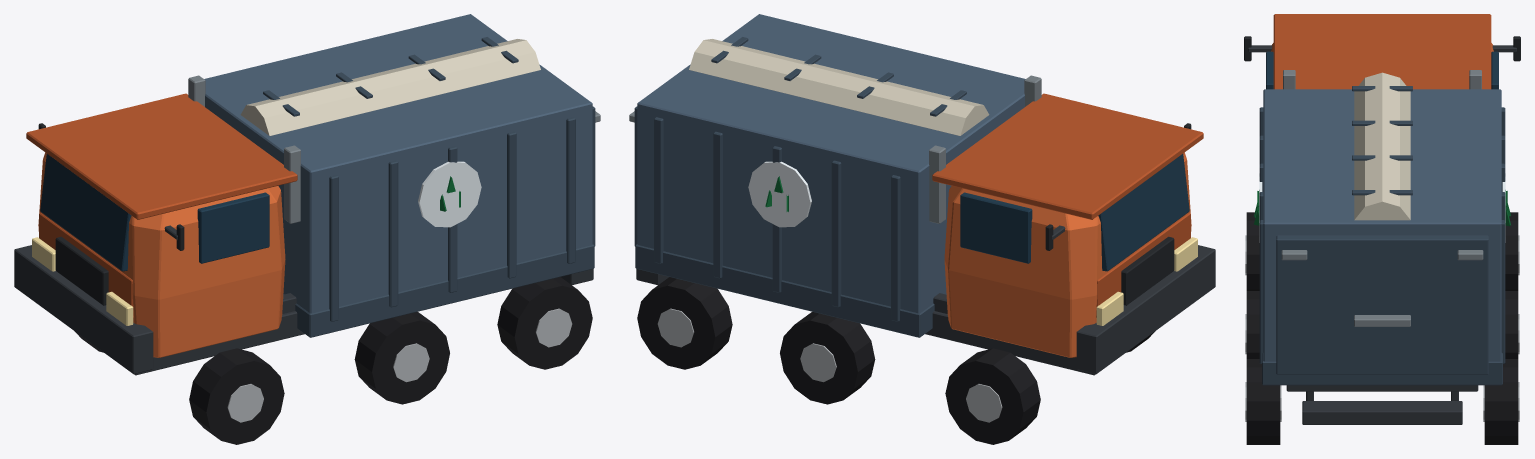
File: camion.glb
3 renders of one model, left to right at view 1: azimuth 30°, elevation 25°; view 2: azimuth 150°, elevation 25°; view 3: azimuth 270°, elevation 25°, orthographic. The views are drawn at different scales.
Visible parts, largest first — view 1: caja, techo_cabina, cabina, lona, zocalo, paragolpes, rueda, rueda.004, rueda.002, parabrisas, ventanilla, cartel (+13 smaller); view 2: caja, techo_cabina, cabina, lona, zocalo, paragolpes, rueda.001, rueda.005, rueda.003, parabrisas, ventanilla.001, cartel.001 (+13 smaller); view 3: caja, compuerta, techo_cabina, lona, escalon, zocalo, rueda.004, rueda.005, chasis, rueda.001, rueda, rueda.002 (+8 smaller).
Boxes of the visible parts, x1,y1,x2,y2 form: caja: (204,14,592,313); techo_cabina: (26,93,297,219); cabina: (38,152,285,357); lona: (240,39,540,135); zocalo: (283,244,594,337); paragolpes: (14,245,153,374); rueda: (189,348,284,444); rueda.004: (497,277,592,369); rueda.002: (354,312,449,404); parabrisas: (40,154,131,271); ventanilla: (197,192,269,263); cartel: (418,161,481,227); caja: (637,14,1025,313); techo_cabina: (932,93,1203,219); cabina: (944,152,1191,357); lona: (689,39,989,135); zocalo: (635,244,946,337); paragolpes: (1076,245,1215,374); rueda.001: (945,348,1040,444); rueda.005: (637,277,732,369); rueda.003: (780,312,875,404); parabrisas: (1098,154,1189,271); ventanilla.001: (960,192,1032,263); cartel.001: (748,161,811,227); caja: (1263,89,1501,361); compuerta: (1276,235,1488,374); techo_cabina: (1273,14,1491,89); lona: (1354,72,1410,220); escalon: (1302,401,1462,424); zocalo: (1262,353,1502,385); rueda.004: (1246,359,1280,444); rueda.005: (1484,359,1518,444); chasis: (1286,385,1478,391); rueda.001: (1505,212,1518,290); rueda: (1246,212,1259,290); rueda.002: (1246,291,1259,358).
Bounding box in the file's own units: 2.08 × 1.11 × 1.07.
